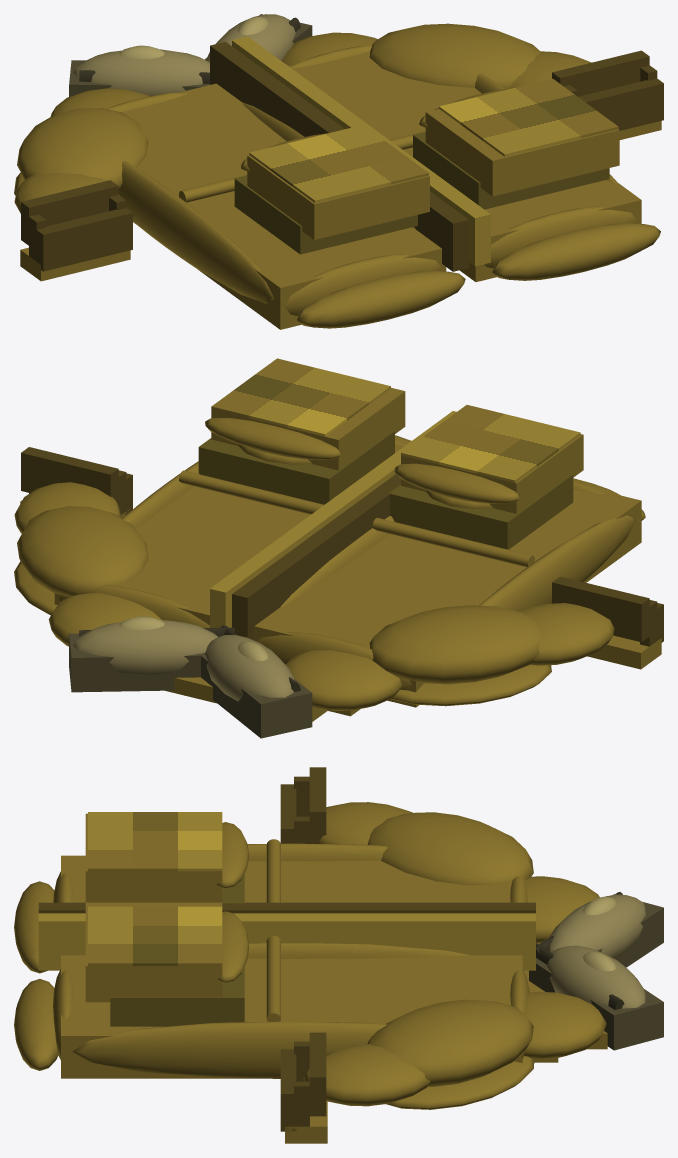
Rendered from CMU3DCivilianJacketYellowParkaWorldCloud.glb.
3 views of the same model, one above another, from view 1: azimuth 30°, elevation 25°; view 2: azimuth 150°, elevation 25°; view 3: azimuth 270°, elevation 25° (orthographic). The views are drawn at different scales.
Parts seen in each view (by area): view 1: left long parka front cloth face, right long parka front cloth face, right soft upper sleeve, left original pocket stitching, right original pocket stitching, right woven pocket face, left long parka front side fold left, left narrow front closure, left soft upper sleeve, left woven pocket face, left bottom turn-up, right bottom turn-up (+22 smaller); view 2: left long parka front cloth face, right long parka front cloth face, left soft upper sleeve, right soft upper sleeve, right original pocket stitching, left original pocket stitching, left narrow front closure, right patch pocket folded sides, left patch pocket folded sides, left long parka front side fold left, right continuous low fur collar band, right narrow front closure (+22 smaller); view 3: right long parka front cloth face, right narrow front closure, right long parka front side fold right, right soft upper sleeve, left long parka front cloth face, left soft upper sleeve, left original pocket stitching, right original pocket stitching, right woven pocket face, right outward forearm fold, left woven pocket face, left narrow front closure (+25 smaller).
Part boxes in pixels (box(x1,y1,x2,y2)): left long parka front cloth face: box(121, 83, 446, 329); right long parka front cloth face: box(288, 51, 641, 281); right soft upper sleeve: box(369, 23, 540, 88); left original pocket stitching: box(249, 125, 428, 202); right original pocket stitching: box(439, 78, 618, 156); right woven pocket face: box(425, 109, 619, 196); left long parka front side fold left: box(118, 160, 274, 303); left narrow front closure: box(210, 41, 468, 271); left soft upper sleeve: box(17, 108, 148, 190); left woven pocket face: box(247, 155, 429, 239); left bottom turn-up: box(297, 270, 465, 328); right bottom turn-up: box(492, 223, 660, 280); left long parka front cloth face: box(254, 489, 641, 707); right long parka front cloth face: box(54, 442, 407, 625); left soft upper sleeve: box(369, 605, 540, 684); right soft upper sleeve: box(17, 506, 148, 596); right original pocket stitching: box(211, 358, 390, 436); left original pocket stitching: box(401, 405, 580, 482); left narrow front closure: box(232, 474, 400, 640); right patch pocket folded sides: box(198, 430, 394, 504); left patch pocket folded sides: box(389, 474, 573, 549); left long parka front side fold left: box(479, 515, 635, 611); right continuous low fur collar band: box(73, 619, 217, 675); right narrow front closure: box(210, 411, 456, 627); right long parka front cloth face: box(61, 955, 522, 1078); right narrow front closure: box(38, 913, 535, 970); right long parka front side fold right: box(72, 1021, 387, 1078); right soft upper sleeve: box(367, 999, 533, 1086); left long parka front cloth face: box(61, 855, 522, 902); left soft upper sleeve: box(367, 812, 533, 885); left original pocket stitching: box(88, 812, 222, 871); right original pocket stitching: box(88, 906, 222, 965); right woven pocket face: box(85, 902, 222, 1002); right outward forearm fold: box(303, 1043, 430, 1106); left woven pocket face: box(85, 813, 222, 902); left narrow front closure: box(38, 902, 535, 913).
Size of the model in its own units: 0.5112 by 0.091 by 0.4534.
10 materials, 2 textured.
